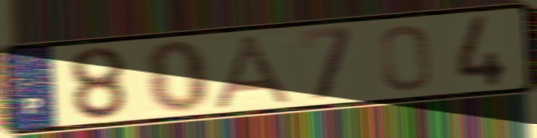0: (137, 39, 215, 115), (377, 22, 434, 93)
4: (454, 12, 511, 90)
7: (299, 24, 354, 104)
8: (67, 45, 129, 121)
A: (208, 32, 300, 111)
